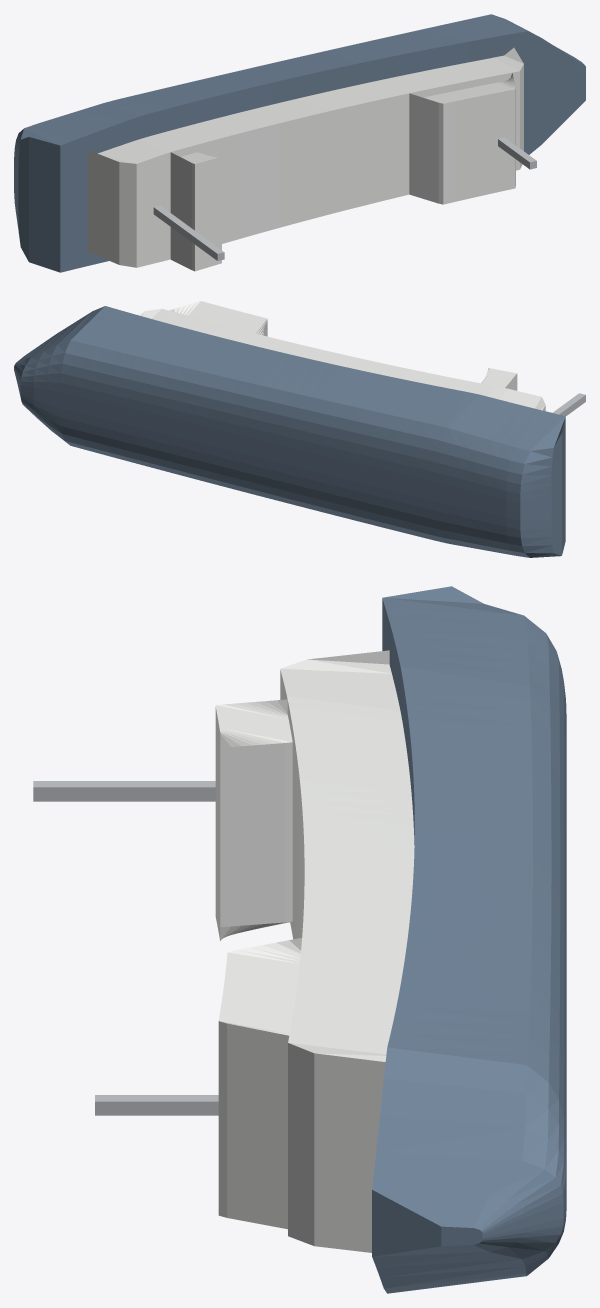
Rendered from loft-ferry-sheered.glb.
3 renders of one model, top to bottom at view 1: azimuth 30°, elevation 25°; view 2: azimuth 150°, elevation 25°; view 3: azimuth 270°, elevation 25°, orthographic. The views are drawn at different scales.
Visible parts, largest first — view 1: ferry-loft-sheered; view 2: ferry-loft-sheered; view 3: ferry-loft-sheered.
Part boxes in pixels (x1,y1,x2,y2): ferry-loft-sheered: (14, 14, 585, 272); ferry-loft-sheered: (14, 301, 585, 557); ferry-loft-sheered: (33, 586, 566, 1293).
Bounding box in the file's own units: 1.93 × 0.4609 × 0.8251.
